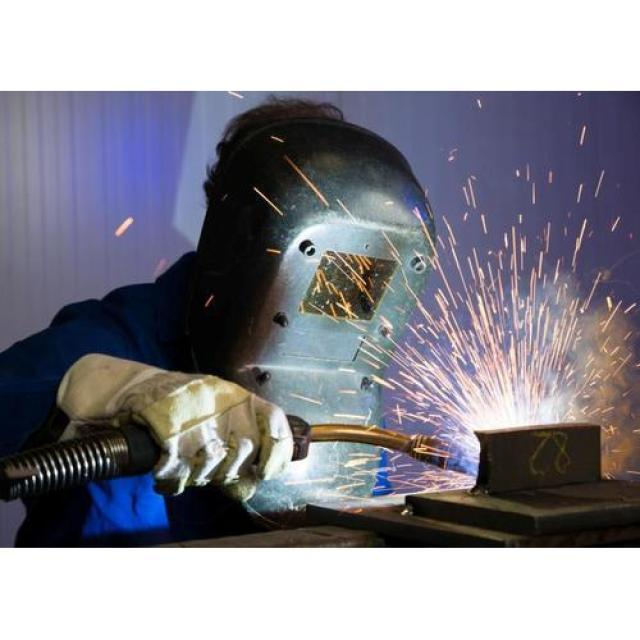with_helmet: (190, 102, 434, 423)
